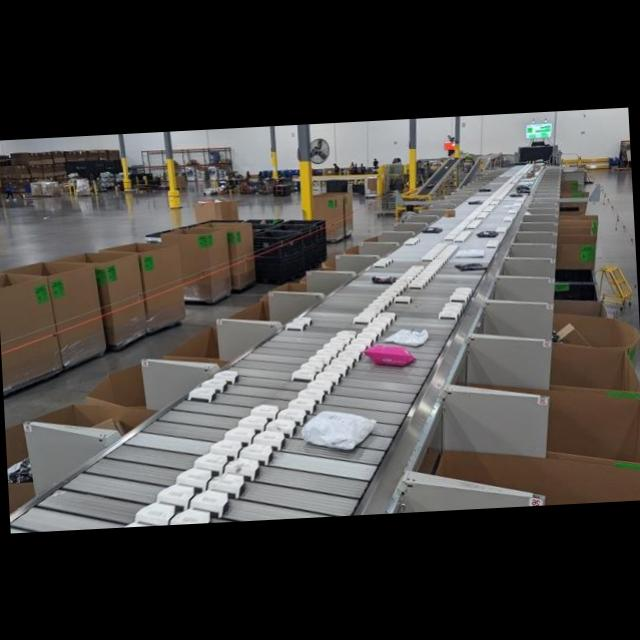box: (445, 208, 456, 216), (528, 170, 536, 177)
mailer: (303, 411, 375, 449), (366, 344, 415, 364), (386, 328, 429, 344), (457, 263, 489, 270), (457, 248, 485, 256), (373, 274, 398, 282), (424, 225, 443, 232), (478, 230, 499, 236), (518, 184, 532, 192), (468, 198, 484, 204), (480, 186, 493, 192), (509, 192, 524, 196)
